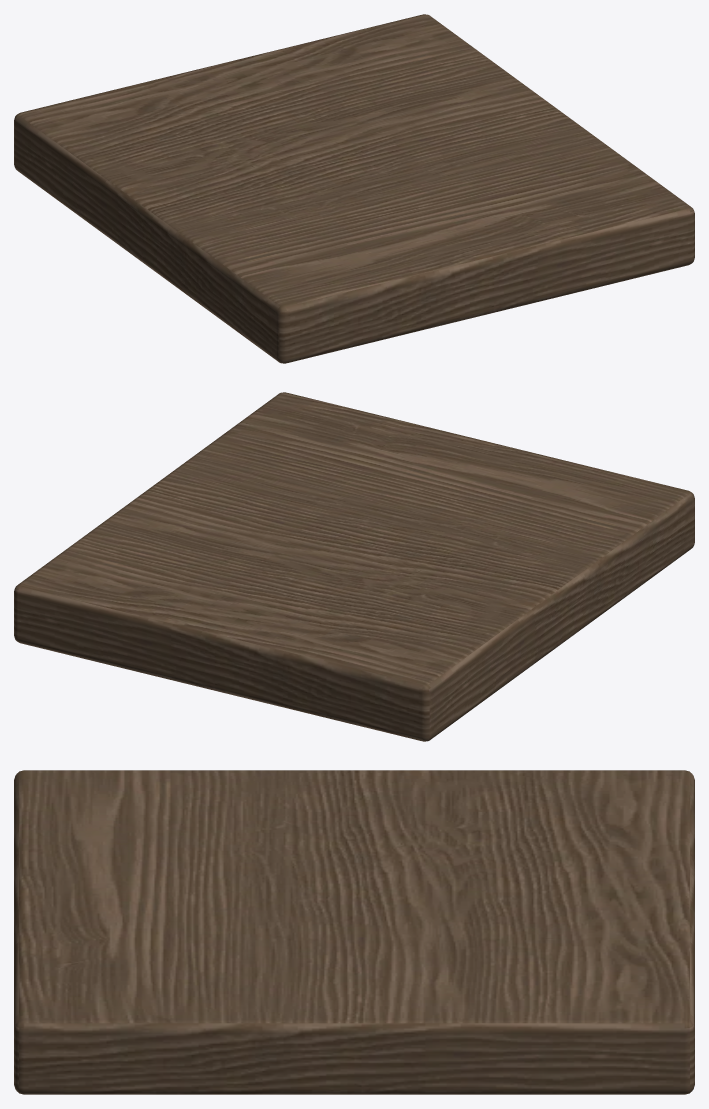
File: bench.glb
3 views of the same model, one above another, from view 1: azimuth 30°, elevation 25°; view 2: azimuth 150°, elevation 25°; view 3: azimuth 270°, elevation 25° (orthographic). The views are drawn at different scales.
Visible parts, largest first — view 1: desk; view 2: desk; view 3: desk.
Part boxes in pixels (x1,y1,x2,y2): desk: [14, 14, 694, 363]; desk: [14, 392, 694, 741]; desk: [14, 770, 694, 1094].
Bounding box in the file's own units: 134 × 18 × 150.
Materials: 1 (1 with a texture image).
